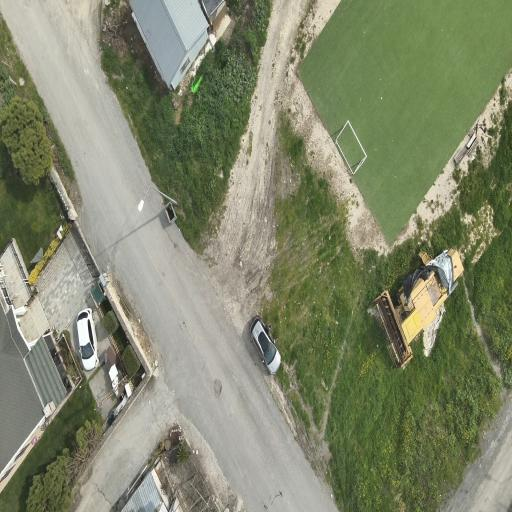car: (250, 316, 281, 374), (77, 309, 99, 370)
harvester: (375, 249, 463, 367)
person: (266, 323, 271, 332)
